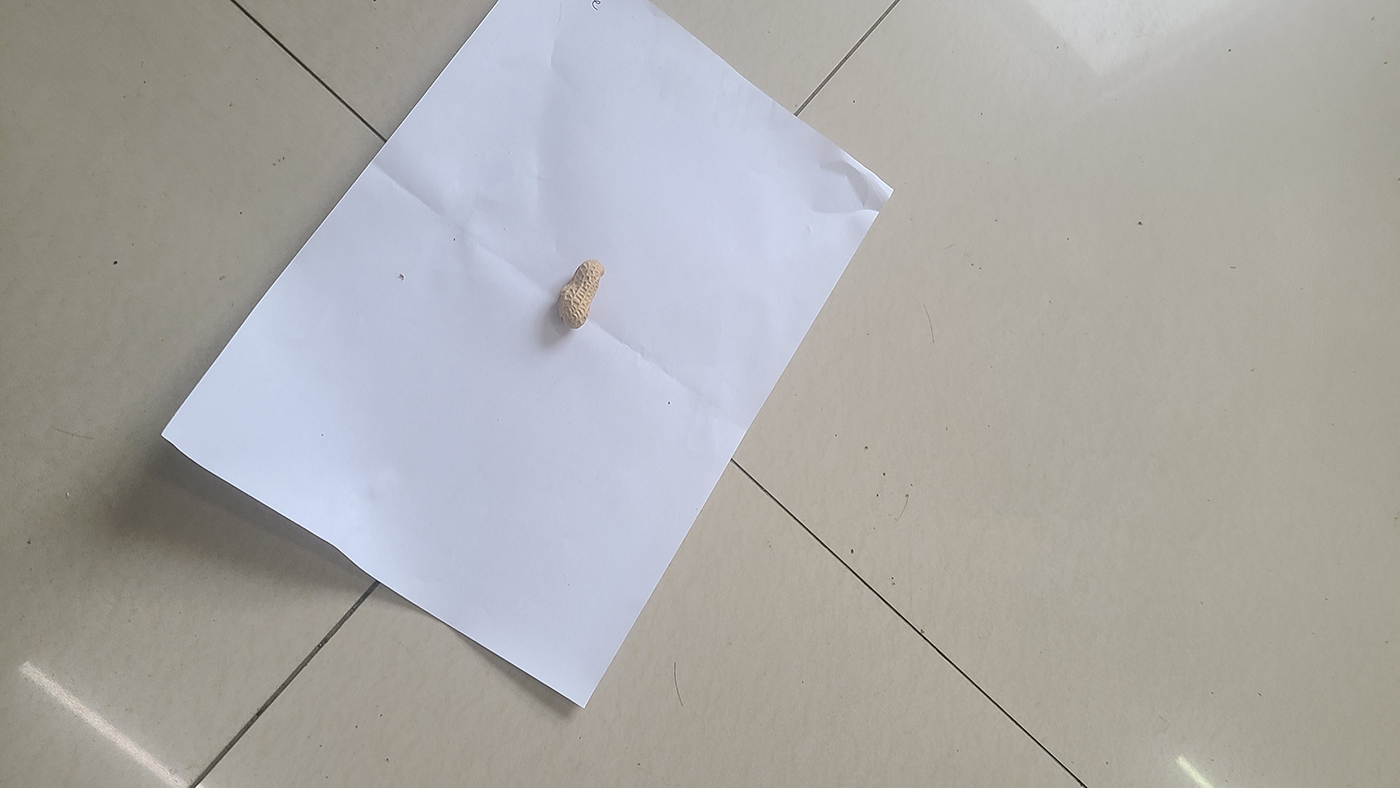h: (557, 258, 605, 328)
